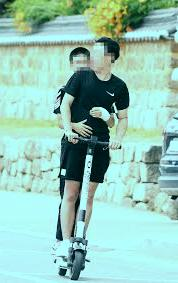multiple: (46, 35, 133, 283)
